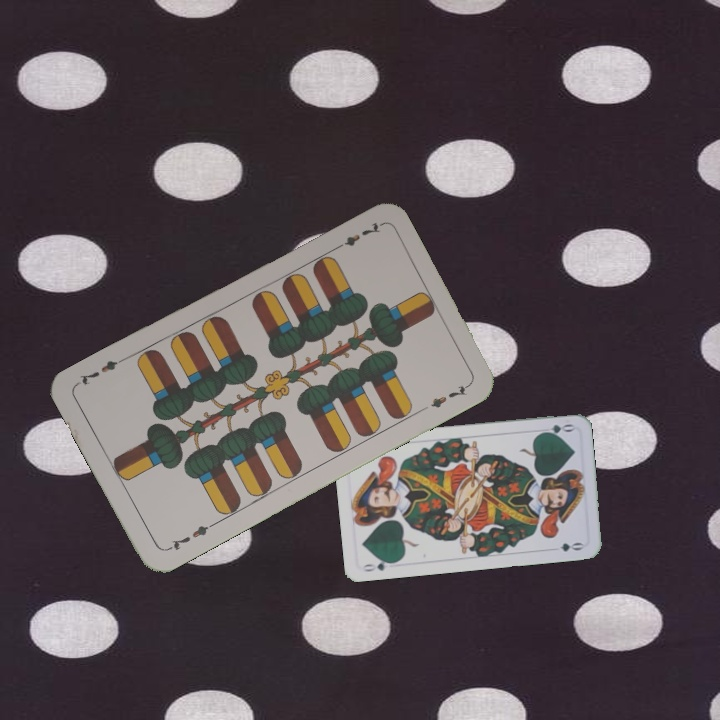E7: (329, 218, 384, 254), (162, 519, 217, 554)
GO: (359, 555, 399, 574), (535, 420, 576, 438)
